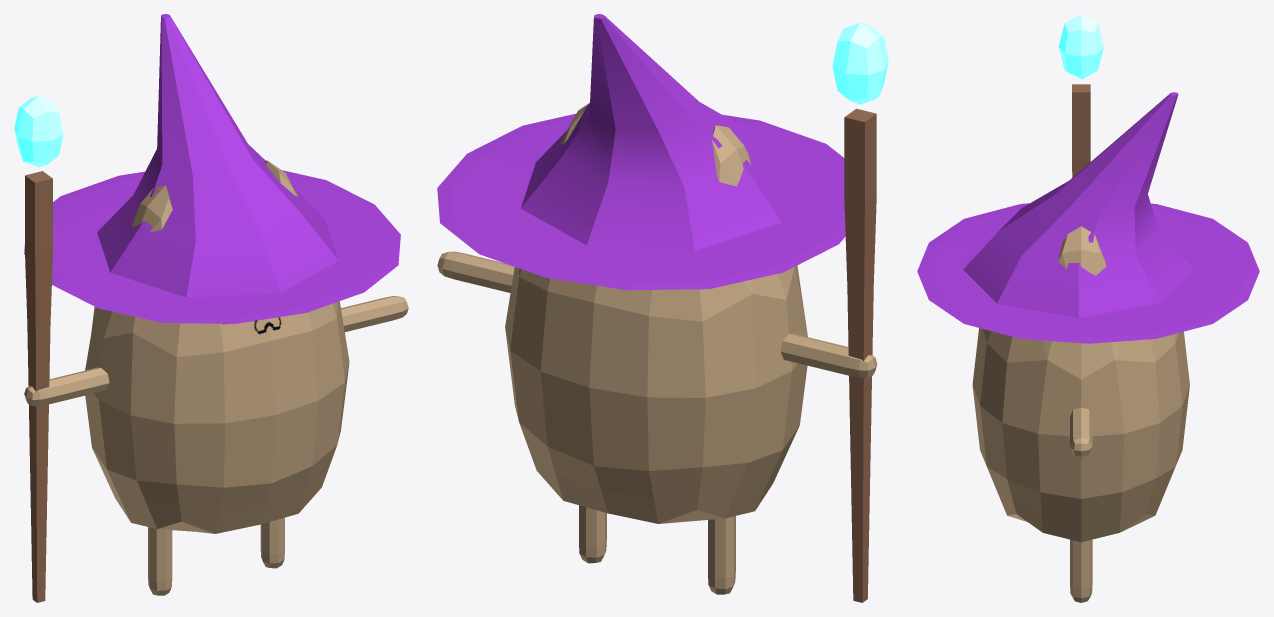
File: nyanya1.glb
3 renders of one model, left to right at view 1: azimuth 30°, elevation 25°; view 2: azimuth 150°, elevation 25°; view 3: azimuth 270°, elevation 25°, orthographic. The views are drawn at different scales.
Parts seen in each view (by area): view 1: WizardHat, Cube, Cube.001, Plane, Cube.002; view 2: Cube, WizardHat, Cube.001, Plane, Cube.002; view 3: WizardHat, Cube, Plane, Cube.002, Cube.001.
Part boxes in pixels (box(x1,y1,x2,y2)): WizardHat: box(24, 14, 400, 323); Cube: box(85, 160, 349, 533); Cube.001: box(25, 171, 52, 602); Plane: box(24, 296, 408, 595); Cube.002: box(14, 95, 63, 167); Cube: box(505, 103, 807, 523); WizardHat: box(437, 14, 845, 290); Cube.001: box(844, 108, 876, 602); Plane: box(437, 251, 877, 594); Cube.002: box(832, 22, 888, 104); WizardHat: box(917, 92, 1259, 343); Cube: box(972, 226, 1189, 542); Plane: box(1070, 407, 1092, 602); Cube.002: box(1058, 14, 1103, 79); Cube.001: box(1072, 84, 1090, 177).
Bounding box in the file's own units: 4.03 × 5.23 × 3.36.
Materials: 4 (1 with a texture image).
